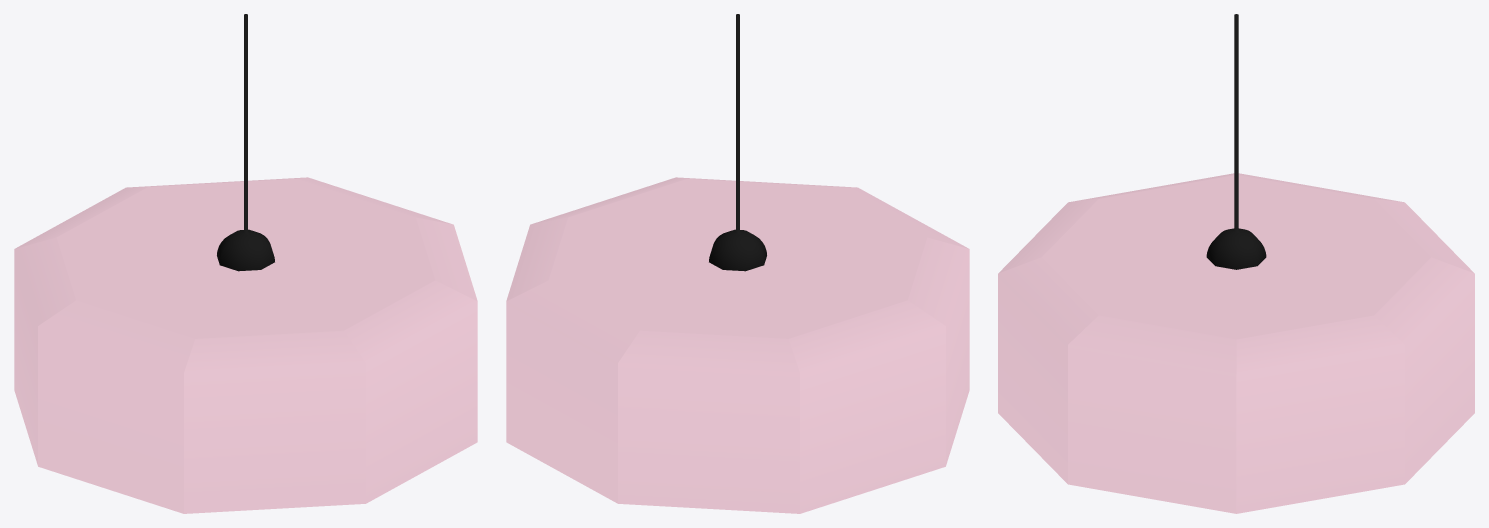
The model's file is Light Hanging 01.fbx.
3 renders of one model, left to right at view 1: azimuth 30°, elevation 25°; view 2: azimuth 150°, elevation 25°; view 3: azimuth 270°, elevation 25°, orthographic.
Visible parts, largest first — view 1: Hanging Light, Sphere; view 2: Hanging Light, Sphere; view 3: Hanging Light, Sphere.
Boxes of the visible parts, box(x1,y1,x2,y2) form: Hanging Light: box(14, 177, 477, 513); Sphere: box(217, 14, 274, 271); Hanging Light: box(506, 177, 969, 513); Sphere: box(709, 14, 766, 271); Hanging Light: box(998, 173, 1474, 513); Sphere: box(1206, 14, 1266, 269).
Size of the model in its own units: 61.5 by 56.73 by 61.5.
